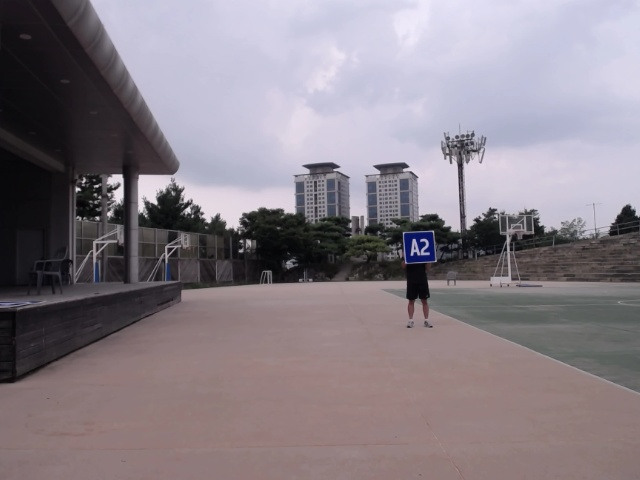delivery_a2: (403, 231, 437, 264)
